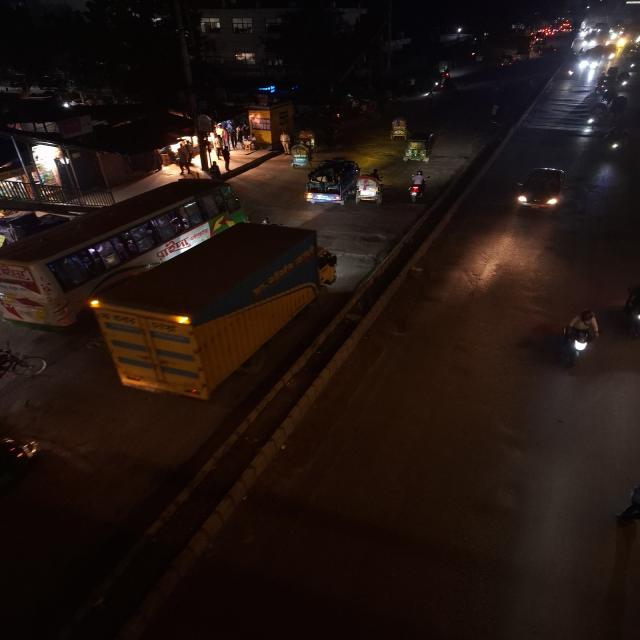bus: (0, 177, 243, 327), (580, 44, 612, 72)
car: (511, 165, 570, 215)
cng: (620, 271, 640, 346), (402, 131, 440, 164)
motorcycle: (556, 306, 603, 372), (600, 126, 628, 160), (404, 169, 431, 203), (565, 66, 576, 80)
pickup_van: (301, 158, 360, 208)
rickshaw: (351, 168, 389, 206), (402, 131, 439, 165), (285, 140, 317, 170), (383, 115, 412, 141), (294, 128, 322, 150)
truck: (92, 224, 335, 406)
